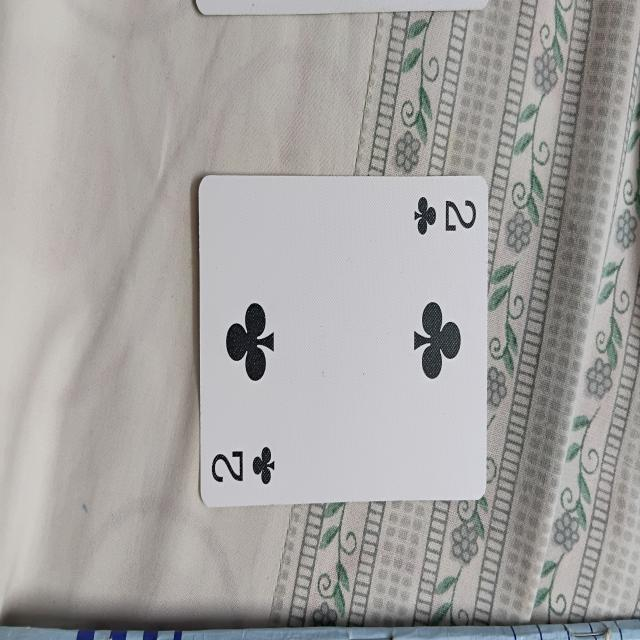2C: (200, 176, 486, 500)
